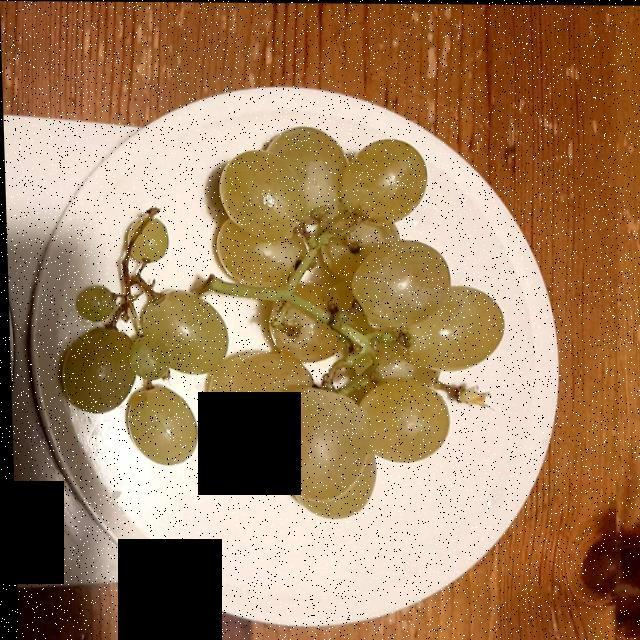grapes: (67, 136, 488, 509)
